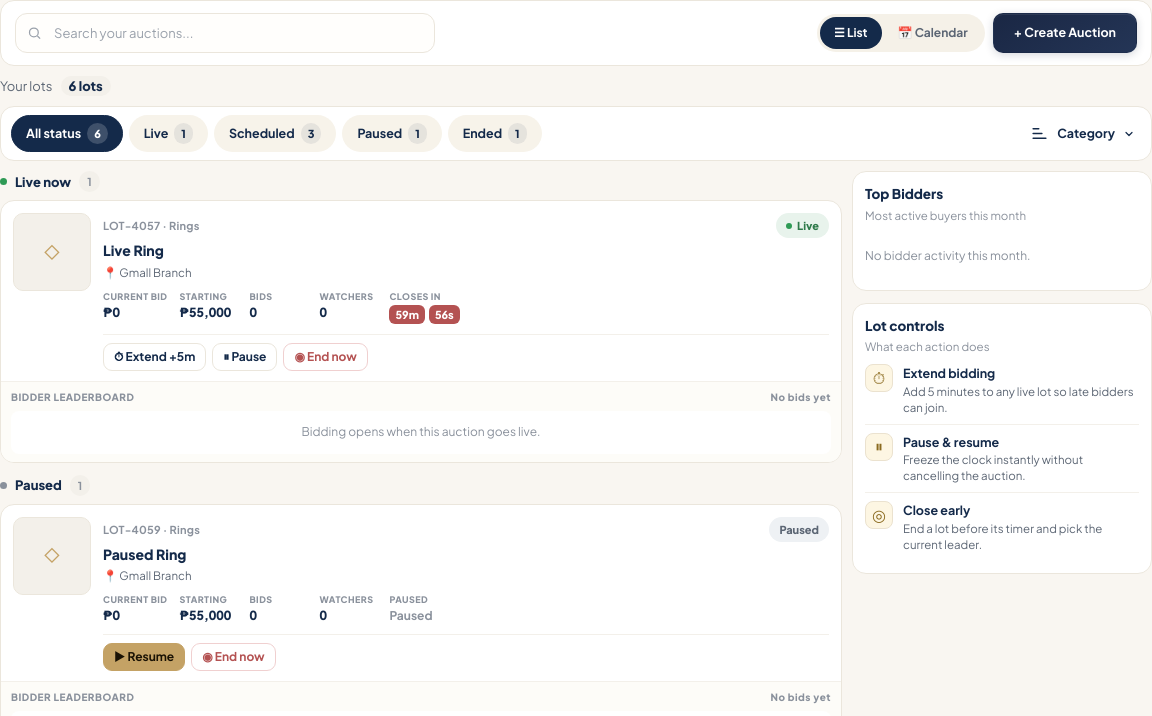
Scenario: timeline click returns to List and focuses the lot
This screenshot has width=1152, height=716.
What coordinates should you click on to do the following:
click the button with aria-label "Calendar view"
I would click on:
 (933, 33)
Its box is [884,17,982,49].
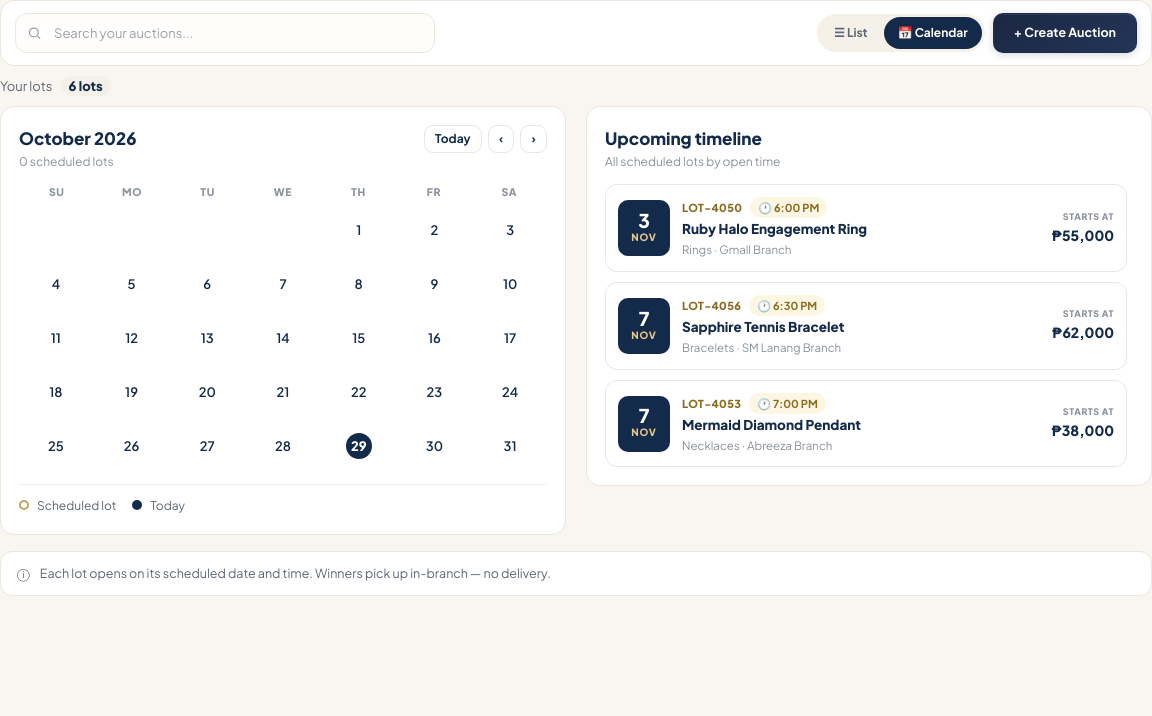
What coordinates should you click on to do the following:
click the button "Ruby Halo"
I would click on:
 (866, 228)
Its box is [605,184,1127,272].
(page scrolled)
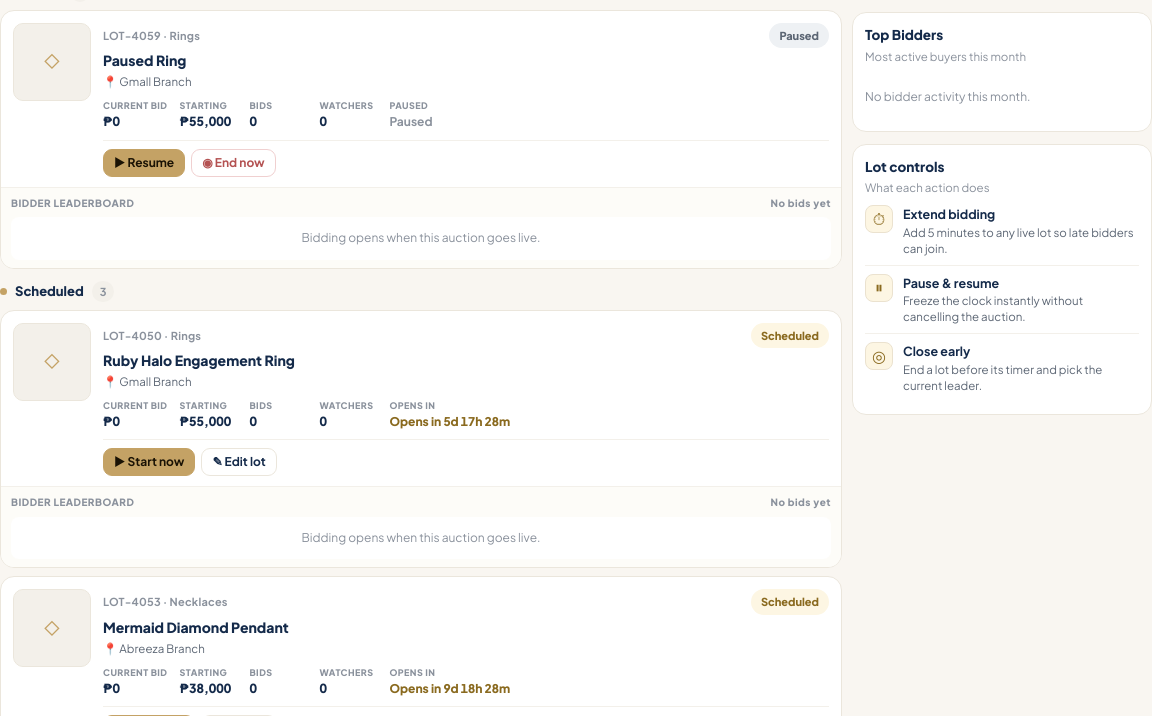
Expected: the text "Ruby Halo Engagement Ring" is shown, [103,351,295,369]
Result: the heading "Upcoming timeline" is gone
